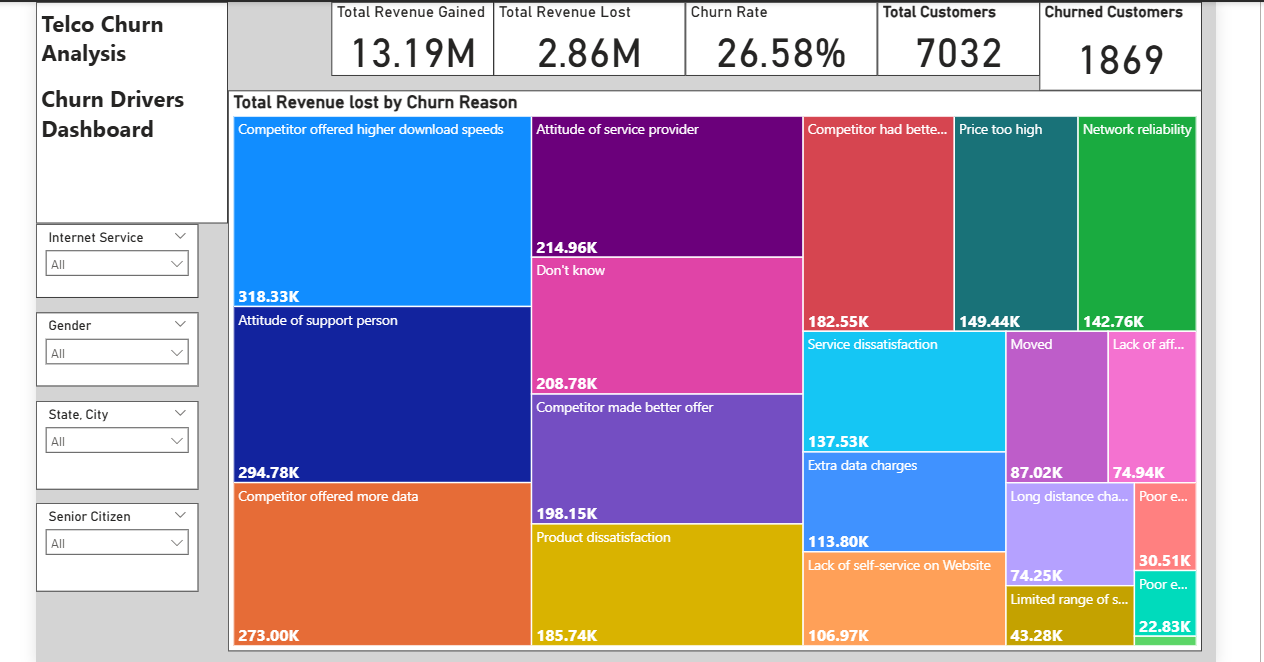

Layout of this report page (visuals, bound fields, positions):
{"tool":"powerbi","page":{"name":"Churn Analysis Breakdown","canvas":[1280,720],"ordinal":1},"visuals":[{"type":"card","title":"Churn Rate","fields":{"Values":["My Measures.Churn rate"]},"box":[704,0,208,80],"z":0},{"type":"card","title":"Total Customers","fields":{"Values":["My Measures.Total Customers"]},"box":[912,0,176,80],"z":1000},{"type":"card","title":"Churned Customers","fields":{"Values":["My Measures.Total Churned customers"]},"box":[1088,0,176,96],"z":2000},{"type":"card","title":"Total Revenue Lost","fields":{"Values":["My Measures.Total Revenue lost"]},"box":[496,0,208,80],"z":3000},{"type":"card","title":"Total Revenue Gained","fields":{"Values":["My Measures.Total Revenue"]},"box":[320,0,176,80],"z":4000},{"type":"slicer","fields":{"Values":["Telco Customer Churn.State Hierarchy.State","Telco Customer Churn.State Hierarchy.City"]},"box":[0,432,176,96],"z":5000},{"type":"slicer","fields":{"Values":["Telco Customer Churn.Gender"]},"box":[0,336,176,80],"z":6000},{"type":"slicer","fields":{"Values":["Telco Customer Churn.Senior Citizen"]},"box":[0,544,176,96],"z":7000},{"type":"treemap","fields":{"Group":["Telco Customer Churn.Churn Reason"],"Values":["My Measures.Total Revenue lost"]},"box":[208,96,1056,608],"z":8000},{"type":"slicer","fields":{"Values":["Telco Customer Churn.Internet Service"]},"box":[0,240,176,80],"z":9000},{"type":"textbox","box":[0,0,208,240],"z":10000}]}

Visuals, with their boxes on the page's 1280x720 design canvas (x1, y1, x2, y2). These are canvas units, not pixel positions in the 1264x662 screenshot, which may show the page scaled, cropped or inside an application window:
"Churn Rate" card: region(704, 0, 912, 80)
"Total Customers" card: region(912, 0, 1088, 80)
"Churned Customers" card: region(1088, 0, 1264, 96)
"Total Revenue Lost" card: region(496, 0, 704, 80)
"Total Revenue Gained" card: region(320, 0, 496, 80)
slicer - Telco Customer Churn.State Hierarchy.State x Telco Customer Churn.State Hierarchy.City: region(0, 432, 176, 528)
slicer - Telco Customer Churn.Gender: region(0, 336, 176, 416)
slicer - Telco Customer Churn.Senior Citizen: region(0, 544, 176, 640)
treemap - Telco Customer Churn.Churn Reason x My Measures.Total Revenue lost: region(208, 96, 1264, 704)
slicer - Telco Customer Churn.Internet Service: region(0, 240, 176, 320)
textbox: region(0, 0, 208, 240)
